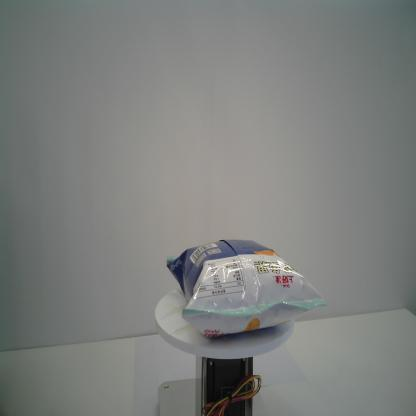Puffed Food: (166, 239, 328, 339)
